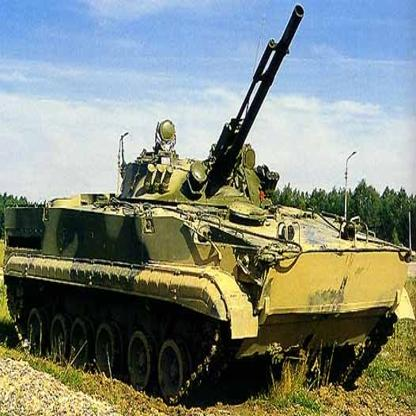Tank: (4, 129, 412, 402)
